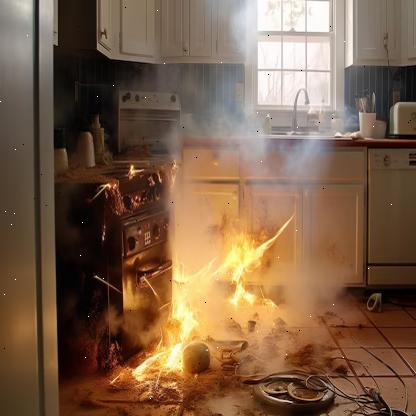fire: (128, 224, 295, 401)
smoke: (158, 0, 356, 230)
